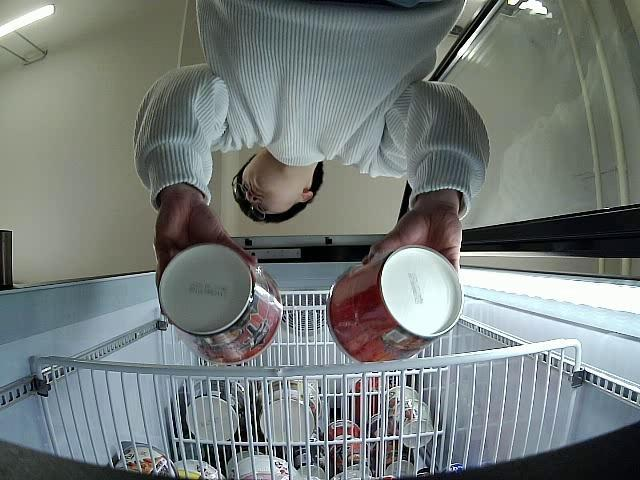01_ShinRamen_L: (330, 246, 464, 363), (158, 243, 284, 356)
